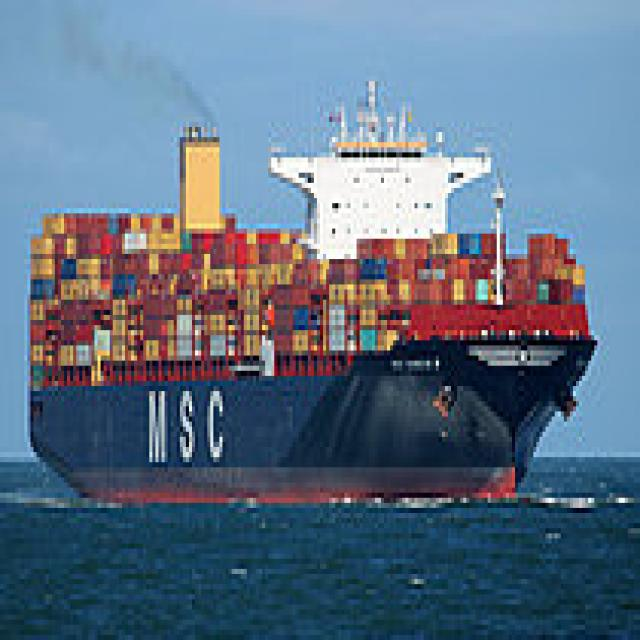Cargo: (21, 71, 598, 503)
